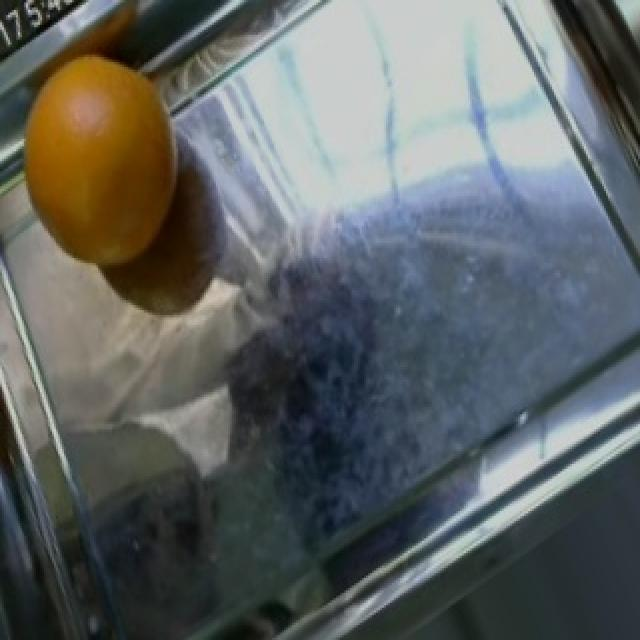Fruit: (0, 47, 204, 285)
